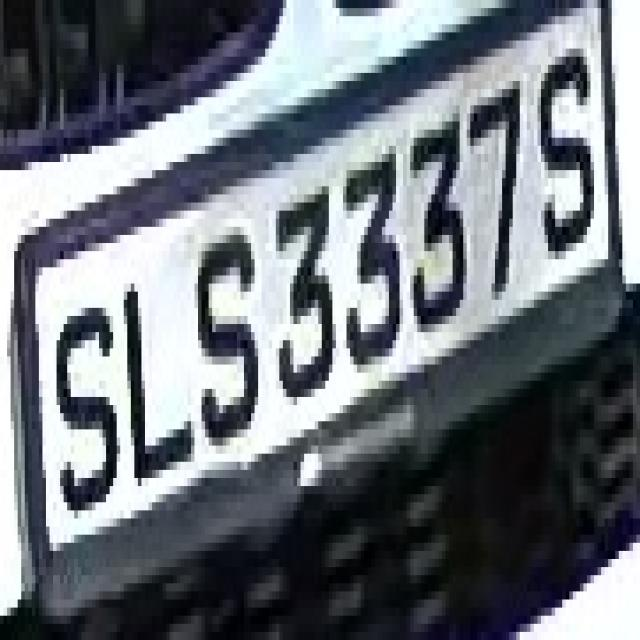3: (265, 178, 343, 430), (339, 138, 414, 364), (399, 106, 466, 340)
7: (463, 73, 527, 316)
L: (116, 251, 194, 502)
S: (180, 227, 266, 478), (53, 292, 124, 551), (534, 56, 597, 284)
